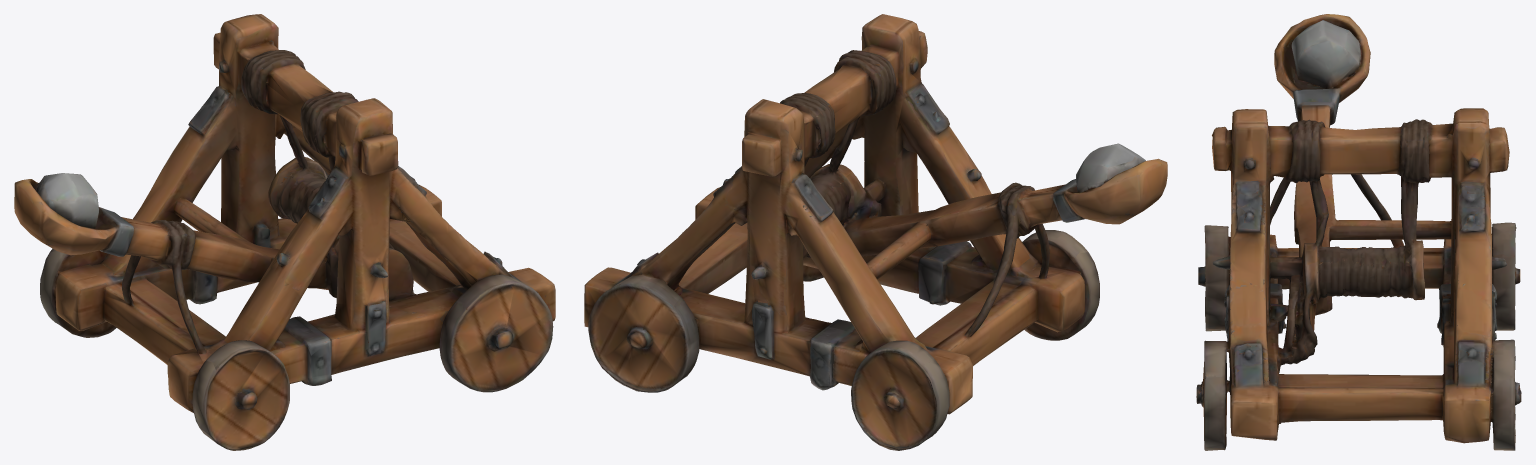
The model's file is catapulte.glb.
3 renders of one model, left to right at view 1: azimuth 30°, elevation 25°; view 2: azimuth 150°, elevation 25°; view 3: azimuth 270°, elevation 25°, orthographic. The views are drawn at different scales.
Size of the model in its own units: 2 by 1.16 by 1.23.
1 material, 1 textured.
